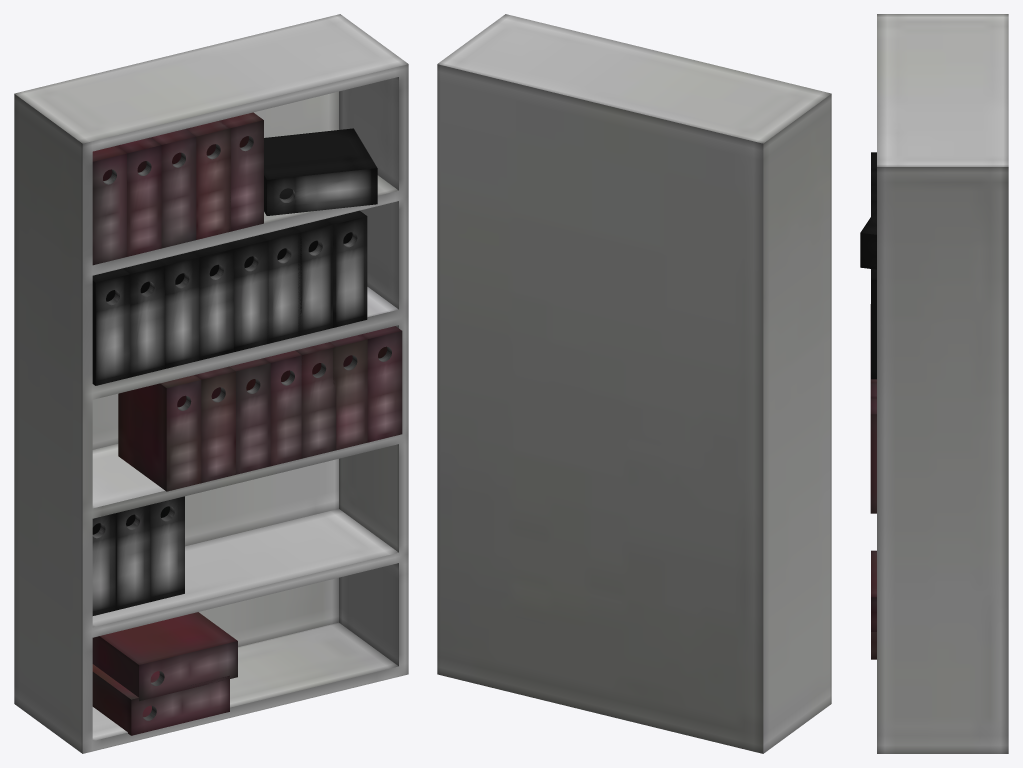
The model's file is bookcase.glb.
3 renders of one model, left to right at view 1: azimuth 30°, elevation 25°; view 2: azimuth 150°, elevation 25°; view 3: azimuth 270°, elevation 25°, orthographic. The views are drawn at different scales.
Parts seen in each view (by area): view 1: Cubo.003_Cubo.003_baked_0; view 2: Cubo.003_Cubo.003_baked_0; view 3: Cubo.003_Cubo.003_baked_0.
Boxes of the visible parts, bbox=[...] form: Cubo.003_Cubo.003_baked_0: bbox=[14, 14, 408, 753]; Cubo.003_Cubo.003_baked_0: bbox=[437, 14, 831, 753]; Cubo.003_Cubo.003_baked_0: bbox=[860, 14, 1008, 753].
Bounding box in the file's own units: 1.08 × 1.92 × 0.4409.
1 material, 1 textured.
